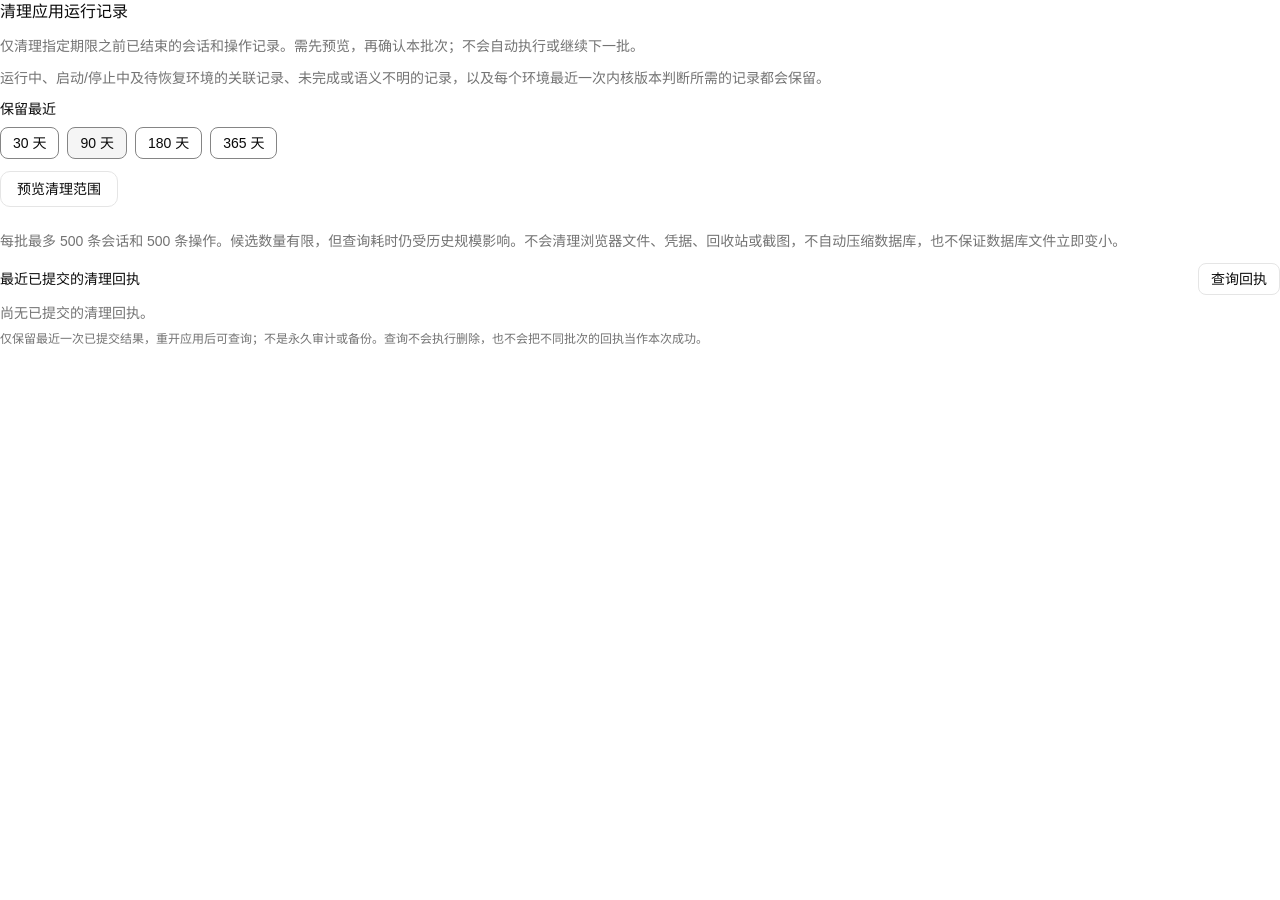
it: expires explicitly rather than silently obtaining and executing a different batch
This screenshot has width=1280, height=900.
Click the button "预览清理范围" at (59, 189), box x1=0 y1=171 x2=118 y2=207
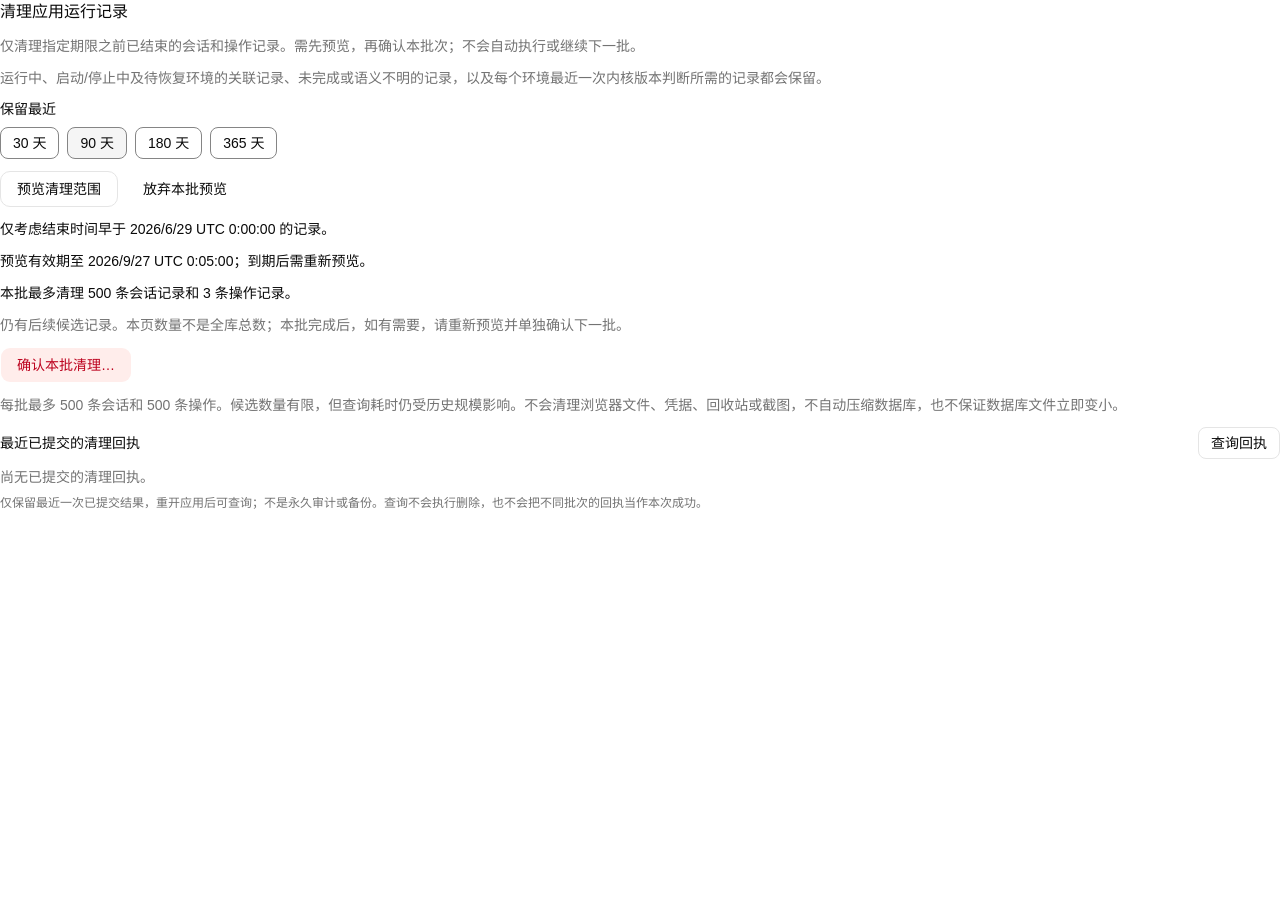
Click the button "确认本批清理…" at (66, 365), box x1=0 y1=347 x2=132 y2=383
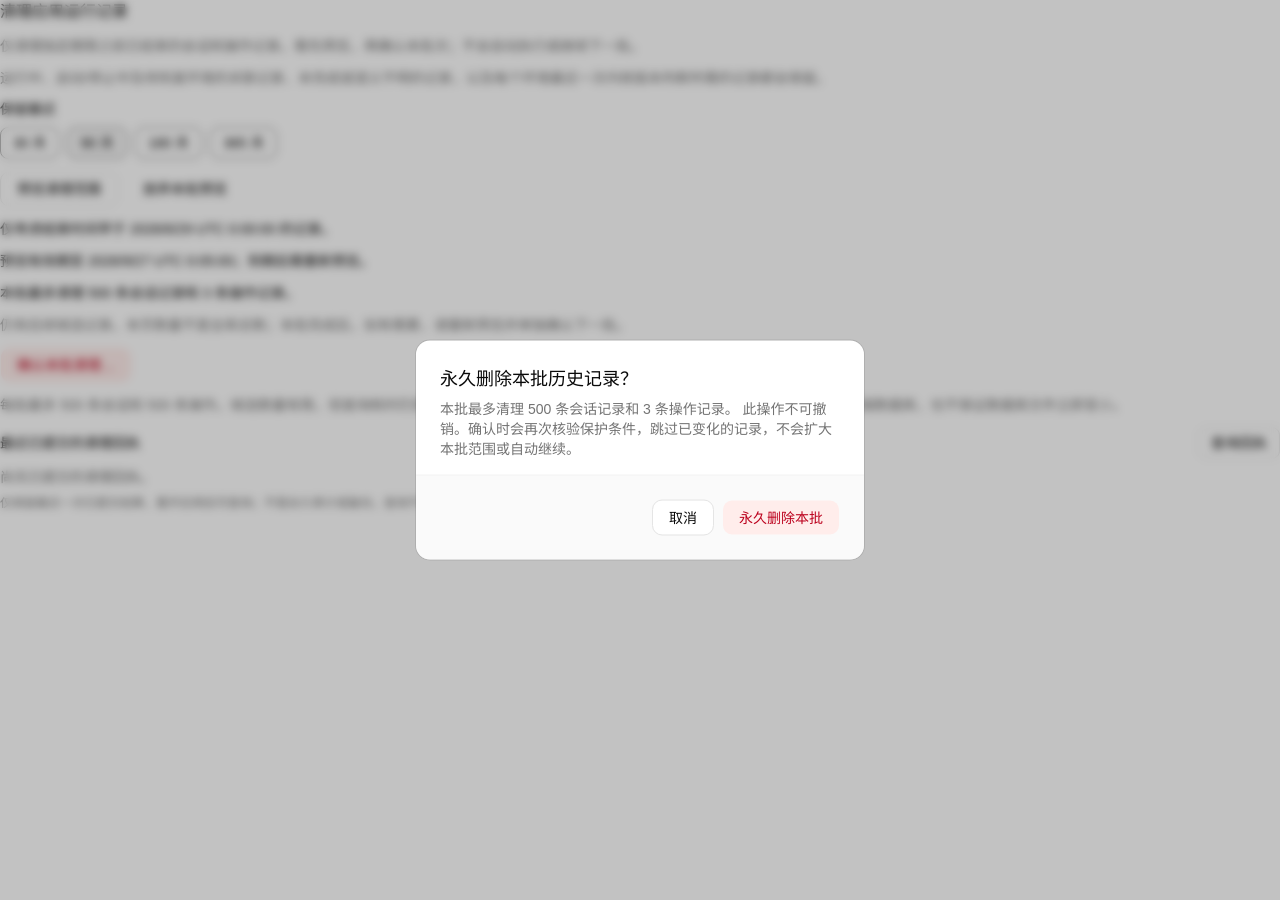
Click the button "永久删除本批" at (781, 518), box x1=722 y1=500 x2=840 y2=536
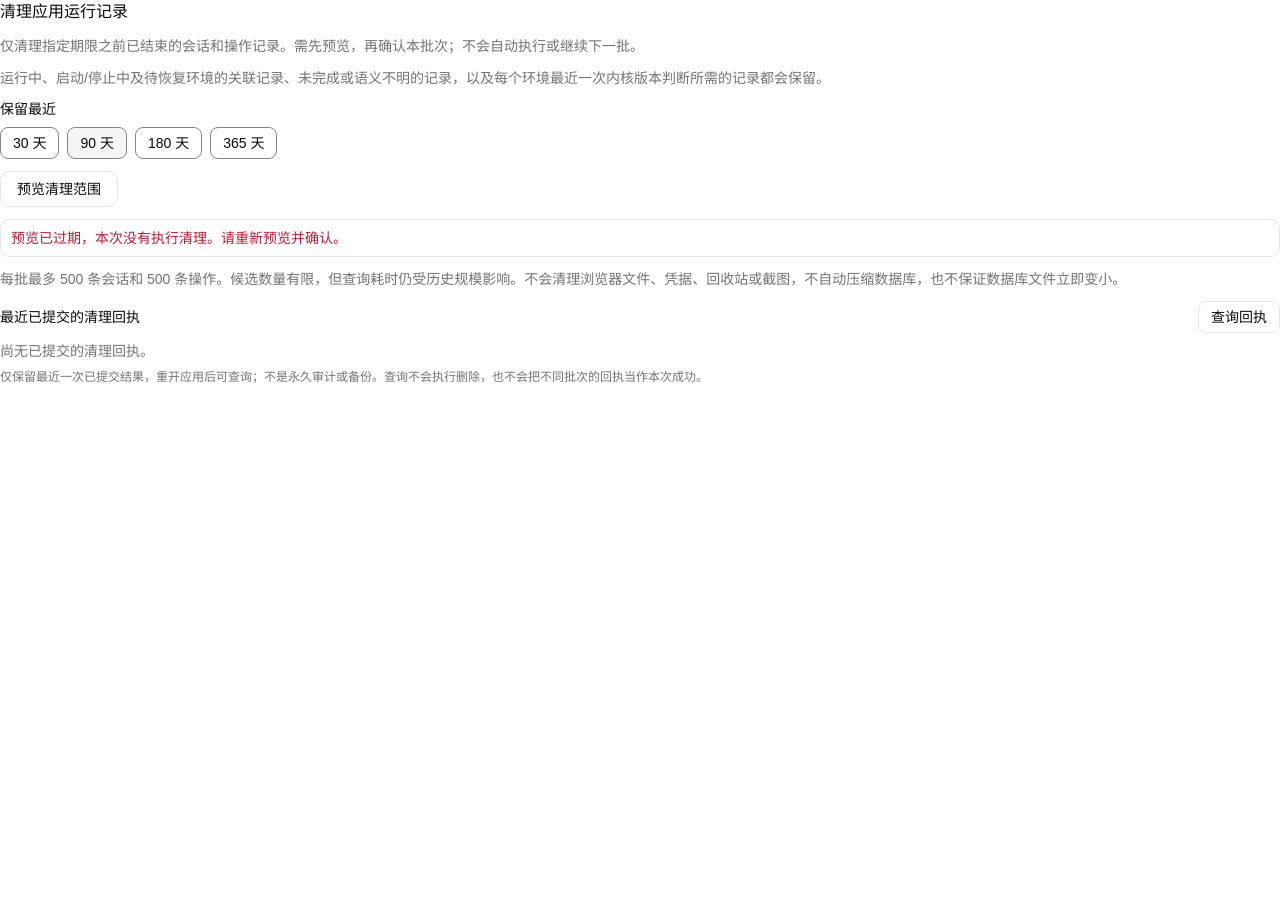
Check: the button "预览清理范围" is enabled, box x1=0 y1=171 x2=118 y2=207
Check: the text "预览已过期" is shown, box x1=11 y1=230 x2=347 y2=246
